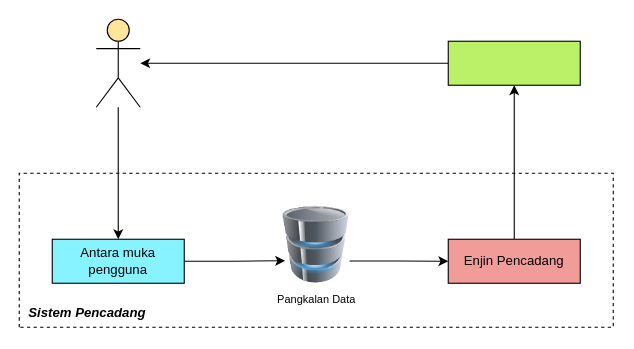
This 634x349 diagram has some shape labels left out. Here are the shapes that lost their labels. From the top down, the centre of each, then its label:
At point (117, 62): "Pengguna".
At point (513, 62): "Cadangan N-Teratas".
